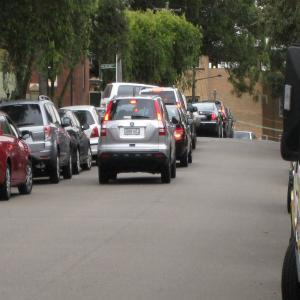Vehicle-registration-plate: (125, 129, 140, 136), (200, 115, 205, 118)
